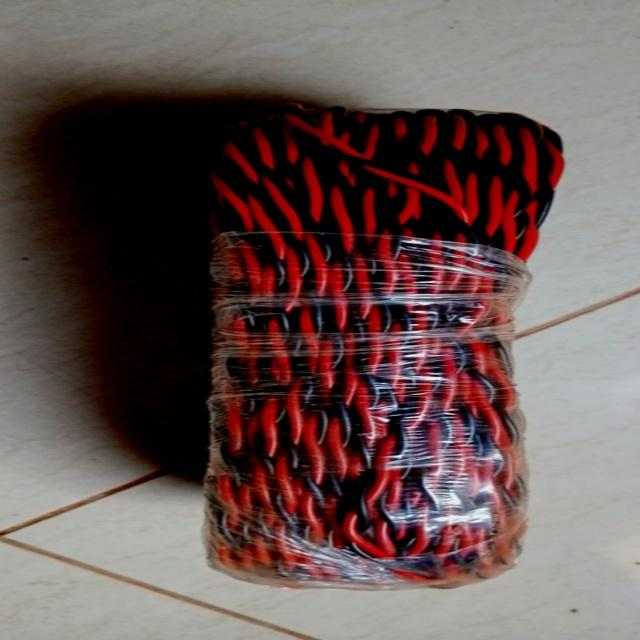Connecting Wires: (151, 103, 581, 597)
